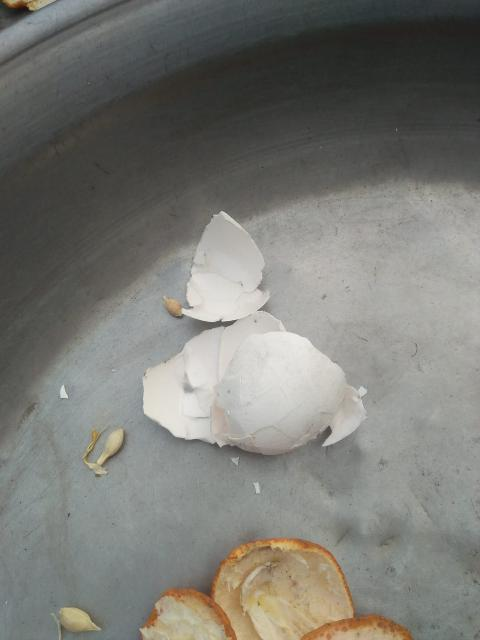Roto: (142, 211, 367, 456)
